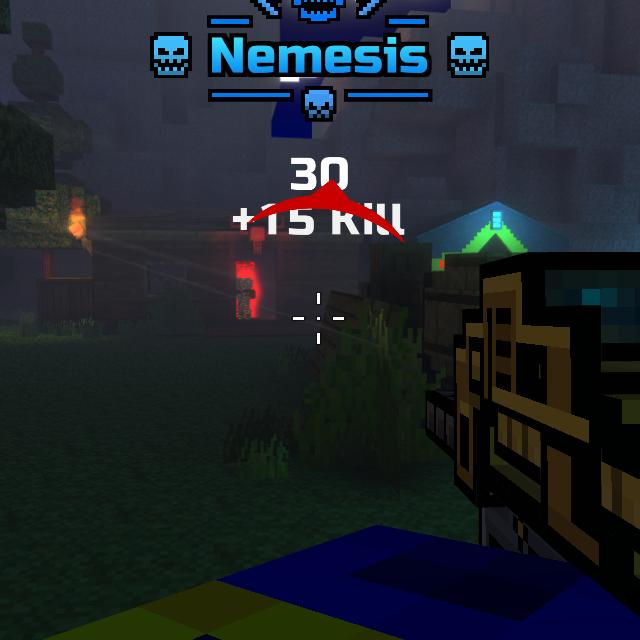Enemy: (236, 276, 256, 318)
